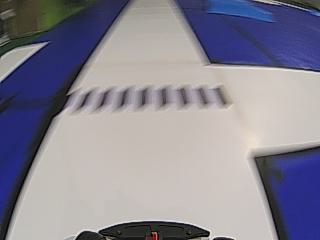CrossWalk: (64, 75, 237, 118)
